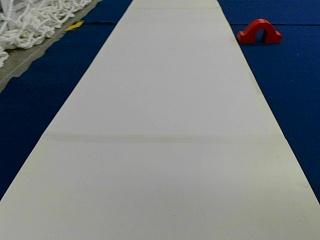bridge: (238, 19, 281, 42)
